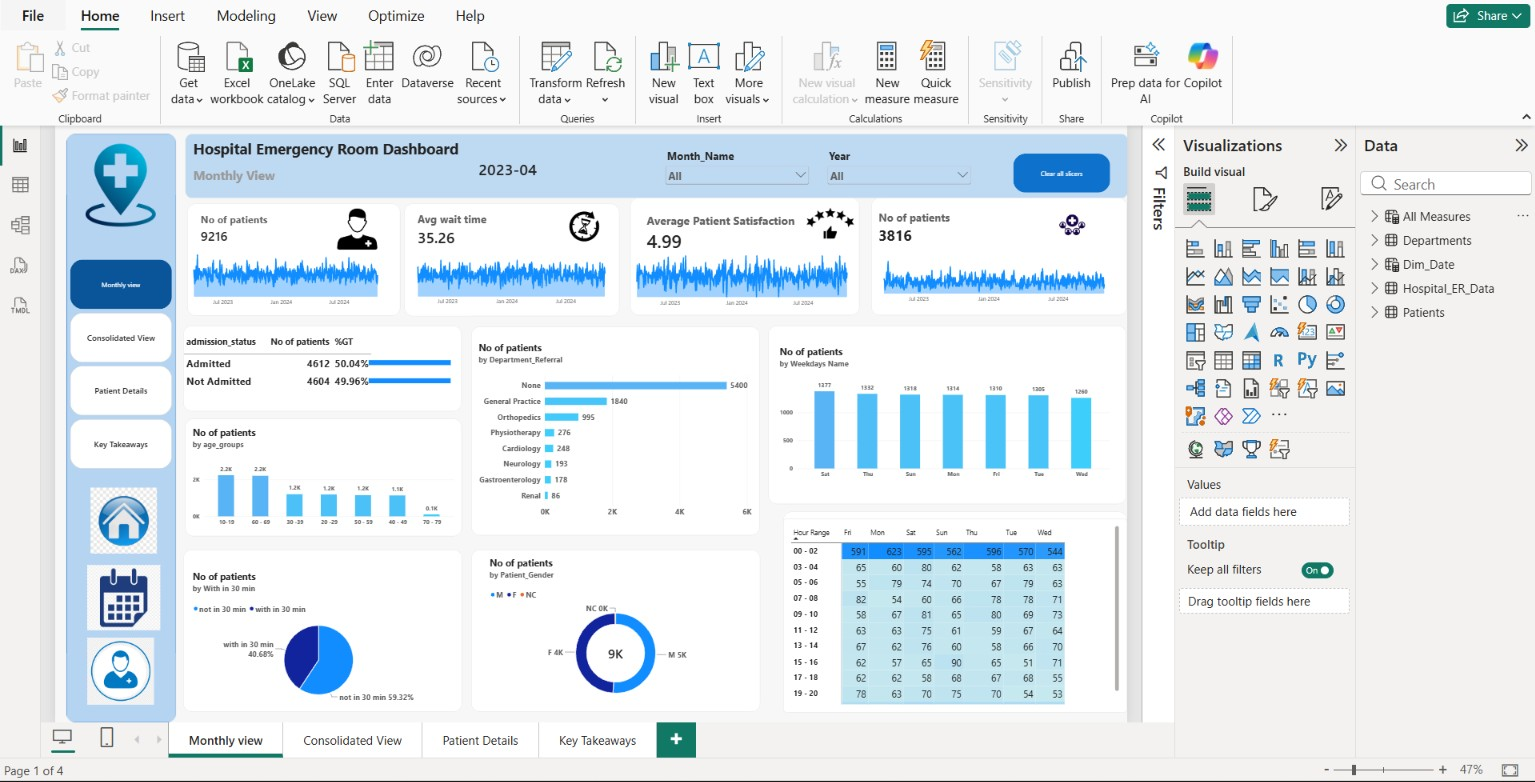

The dashboard page shown, as its layout file describes it:
{"tool":"powerbi","page":{"name":" Monthly view","canvas":[2300,1280],"ordinal":0},"visuals":[{"type":"shape","box":[274.2,909.7,598.5,348.2],"z":0},{"type":"shape","box":[278.8,17.2,2022.5,139.4],"z":1000},{"type":"shape","box":[23.6,17.2,235.9,1263.3],"z":2000},{"type":"textbox","box":[296,27.9,624.1,111.5],"z":3000},{"type":"shape","box":[282.9,167.6,457.3,240.9],"z":4000},{"type":"cardVisual","fields":{"Data":["Hospital_ER_Data.No of patients"]},"box":[296,128.4,263.5,184.2],"z":5000},{"type":"lineChart","fields":{"Category":["Dim_Date.Date"],"Y":["All Measures.No of patients"]},"box":[259.5,253.1,469.7,154.4],"z":6000},{"type":"slicer","fields":{"Values":["Dim_Date.Month_Name"]},"box":[1304,49.3,317.4,107.2],"z":7000},{"type":"shape","box":[748.7,167.6,461.8,241.7],"z":8000},{"type":"cardVisual","fields":{"Data":["Hospital_ER_Data.Avg wait time"]},"box":[761.7,130.6,263.5,184.2],"z":9000},{"type":"lineChart","fields":{"Category":["Dim_Date.Date"],"Y":["Hospital_ER_Data.Avg wait time"]},"box":[740,250.3,476.9,155.4],"z":10000},{"type":"shape","box":[1234,154.5,491.9,252.5],"z":11000},{"type":"shape","box":[1749.8,154.5,548.4,252.5],"z":12000},{"type":"cardVisual","fields":{"Data":["Hospital_ER_Data.Average Patient Satisfaction"]},"box":[1253.6,167.6,351.3,126.4],"z":13000},{"type":"cardVisual","fields":{"Data":["Hospital_ER_Data.No of patients"]},"box":[1749.8,126.2,263.5,184.2],"z":14000},{"type":"lineChart","fields":{"Category":["Dim_Date.Date"],"Y":["Hospital_ER_Data.Average Patient Satisfaction"]},"box":[1210.1,254.6,526.6,153.2],"z":15000},{"type":"lineChart","fields":{"Category":["Dim_Date.Date"],"Y":["Hospital_ER_Data.No of patients"]},"box":[1739.4,259.5,548.4,141.5],"z":16000},{"type":"shape","box":[274.2,428.4,597.6,184.2],"z":17000},{"type":"tableEx","fields":{"Values":["Hospital_ER_Data.admission_status","Hospital_ER_Data.No of patients","Divide(Hospital_ER_Data.No of patients, ScopedEval(Hospital_ER_Data.No of patients, []))"]},"box":[259,431.6,457.5,159.7],"z":18000},{"type":"barChart","fields":{"Category":["Hospital_ER_Data.admission_status"],"Y":["Hospital_ER_Data.No of patients"]},"box":[655.9,461.8,261.1,129.5],"z":19000},{"type":"shape","box":[278.5,627.6,593.3,252.7],"z":20000},{"type":"columnChart","fields":{"Category":["Patients.age_groups"],"Y":["All Measures.No of patients"]},"box":[278.5,629.7,593.3,248.5],"z":21000},{"type":"shape","box":[893.2,430.5,619,447.7],"z":22000},{"type":"pieChart","fields":{"Category":["Hospital_ER_Data.With in 30 min"],"Y":["Hospital_ER_Data.No of patients"]},"box":[278.6,940.2,572.4,317.8],"z":23000},{"type":"barChart","fields":{"Category":["Departments.Department_Referral"],"Y":["Hospital_ER_Data.No of patients"]},"box":[893.2,447.7,619,413.4],"z":24000},{"type":"shape","box":[892.3,909.7,620.3,348.2],"z":25000},{"type":"donutChart","fields":{"Category":["Patients.Patient_Gender"],"Y":["Hospital_ER_Data.No of patients"]},"box":[916.3,909.7,572.4,348.2],"z":26000},{"type":"shape","box":[1530,428.7,768.3,383],"z":27000},{"type":"columnChart","fields":{"Category":["Dim_Date.Weekdays Name"],"Y":["Hospital_ER_Data.No of patients"]},"box":[1537.8,456.8,740,319.6],"z":28000},{"type":"shape","box":[1560.5,827,737.8,430.9],"z":29000},{"type":"pivotTable","fields":{"Columns":["Dim_Date.Weekdays Name"],"Rows":["Hospital_ER_Data.Hour Range"],"Values":["Hospital_ER_Data.No of patients"]},"box":[1560.5,842.3,737.8,415.7],"z":30000},{"type":"slicer","fields":{"Values":["Dim_Date.Year"]},"box":[1651.5,49.3,317.4,77.2],"z":31000},{"type":"cardVisual","fields":{"Data":["Min(Dim_Date.Year & Month)"]},"box":[893.2,27.8,233.5,128.5],"z":32000},{"type":"image","box":[40.8,38.6,199.5,178],"z":32001},{"type":"pageNavigator","box":[32.2,287.4,218.8,450.4],"z":32004},{"type":"image","box":[68.6,776.4,156.6,141.6],"z":32005},{"type":"image","box":[68.6,941.6,156.6,141.6],"z":32006},{"type":"image","box":[40.8,1098.1,199.5,143.7],"z":32007},{"type":"image","box":[572.7,178,150.1,87.9],"z":32008},{"type":"image","box":[1059.5,171.6,150.1,87.9],"z":32009},{"type":"image","box":[1587.1,165.1,150.1,87.9],"z":32010},{"type":"image","box":[2099.7,167.3,163,87.9],"z":32011},{"type":"actionButton","box":[2054.7,60.1,208,83.6],"z":32012}]}

Visuals, with their boxes on the page's 2300x1280 design canvas (x1, y1, x2, y2). These are canvas units, not pixel positions in the 1535x782 screenshot, which may show the page scaled, cropped or inside an application window:
shape: l=274, t=910, r=873, b=1258
shape: l=279, t=17, r=2301, b=157
shape: l=24, t=17, r=260, b=1280
textbox: l=296, t=28, r=920, b=139
shape: l=283, t=168, r=740, b=408
cardVisual - Hospital_ER_Data.No of patients: l=296, t=128, r=560, b=313
lineChart - Dim_Date.Date x All Measures.No of patients: l=260, t=253, r=729, b=408
slicer - Dim_Date.Month_Name: l=1304, t=49, r=1621, b=156
shape: l=749, t=168, r=1210, b=409
cardVisual - Hospital_ER_Data.Avg wait time: l=762, t=131, r=1025, b=315
lineChart - Dim_Date.Date x Hospital_ER_Data.Avg wait time: l=740, t=250, r=1217, b=406
shape: l=1234, t=154, r=1726, b=407
shape: l=1750, t=154, r=2298, b=407
cardVisual - Hospital_ER_Data.Average Patient Satisfaction: l=1254, t=168, r=1605, b=294
cardVisual - Hospital_ER_Data.No of patients: l=1750, t=126, r=2013, b=310
lineChart - Dim_Date.Date x Hospital_ER_Data.Average Patient Satisfaction: l=1210, t=255, r=1737, b=408
lineChart - Dim_Date.Date x Hospital_ER_Data.No of patients: l=1739, t=260, r=2288, b=401
shape: l=274, t=428, r=872, b=613
tableEx - Hospital_ER_Data.admission_status x Hospital_ER_Data.No of patients: l=259, t=432, r=716, b=591
barChart - Hospital_ER_Data.admission_status x Hospital_ER_Data.No of patients: l=656, t=462, r=917, b=591
shape: l=278, t=628, r=872, b=880
columnChart - Patients.age_groups x All Measures.No of patients: l=278, t=630, r=872, b=878
shape: l=893, t=430, r=1512, b=878
pieChart - Hospital_ER_Data.With in 30 min x Hospital_ER_Data.No of patients: l=279, t=940, r=851, b=1258
barChart - Departments.Department_Referral x Hospital_ER_Data.No of patients: l=893, t=448, r=1512, b=861
shape: l=892, t=910, r=1513, b=1258
donutChart - Patients.Patient_Gender x Hospital_ER_Data.No of patients: l=916, t=910, r=1489, b=1258
shape: l=1530, t=429, r=2298, b=812
columnChart - Dim_Date.Weekdays Name x Hospital_ER_Data.No of patients: l=1538, t=457, r=2278, b=776
shape: l=1560, t=827, r=2298, b=1258
pivotTable - Dim_Date.Weekdays Name x Hospital_ER_Data.Hour Range: l=1560, t=842, r=2298, b=1258
slicer - Dim_Date.Year: l=1652, t=49, r=1969, b=126
cardVisual - Min(Dim_Date.Year & Month): l=893, t=28, r=1127, b=156
image: l=41, t=39, r=240, b=217
pageNavigator: l=32, t=287, r=251, b=738
image: l=69, t=776, r=225, b=918
image: l=69, t=942, r=225, b=1083
image: l=41, t=1098, r=240, b=1242
image: l=573, t=178, r=723, b=266
image: l=1060, t=172, r=1210, b=260
image: l=1587, t=165, r=1737, b=253
image: l=2100, t=167, r=2263, b=255
actionButton: l=2055, t=60, r=2263, b=144
